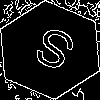S: (25, 25, 80, 81)
